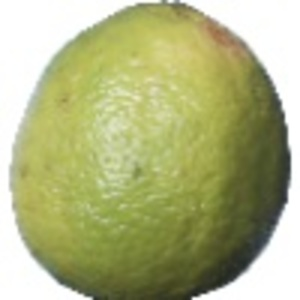limão: (10, 1, 292, 300)
